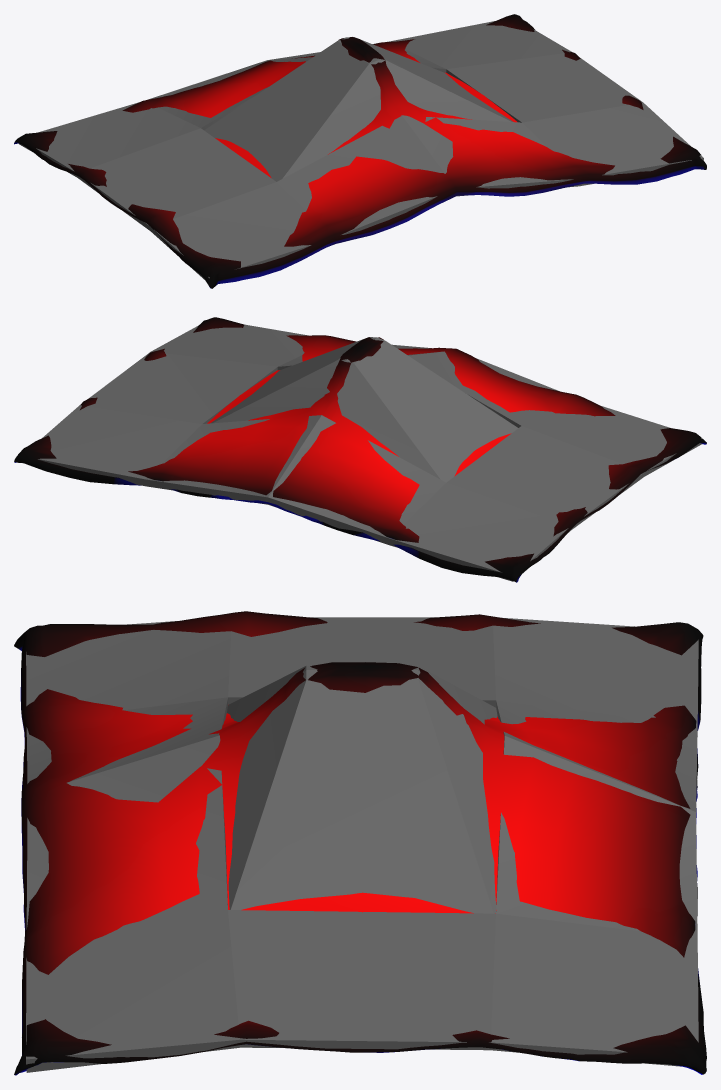
The model's file is Tent_01_Mesh.fbx.
3 renders of one model, top to bottom at view 1: azimuth 30°, elevation 25°; view 2: azimuth 150°, elevation 25°; view 3: azimuth 270°, elevation 25°, orthographic. The views are drawn at different scales.
Visible parts, largest first — view 1: Tent_01, Tent_01_LOD0; view 2: Tent_01, Tent_01_LOD0; view 3: Tent_01, Tent_01_LOD0.
Boxes of the visible parts, x1=… form: Tent_01: x1=19, y1=21, x2=703, y2=280; Tent_01_LOD0: x1=14, y1=14, x2=706, y2=288; Tent_01: x1=37, y1=324, x2=702, y2=581; Tent_01_LOD0: x1=14, y1=317, x2=706, y2=582; Tent_01: x1=26, y1=617, x2=698, y2=1072; Tent_01_LOD0: x1=14, y1=611, x2=706, y2=1075.
Bounding box in the file's own units: 130769 × 87749 × 27929.
